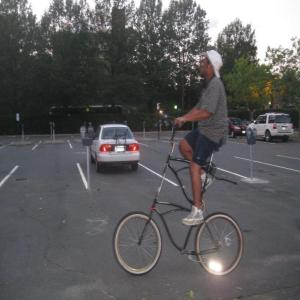Vehicle-registration-plate: (115, 147, 127, 154), (283, 126, 287, 131)
